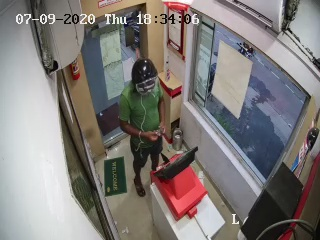helmet: (127, 56, 163, 101)
